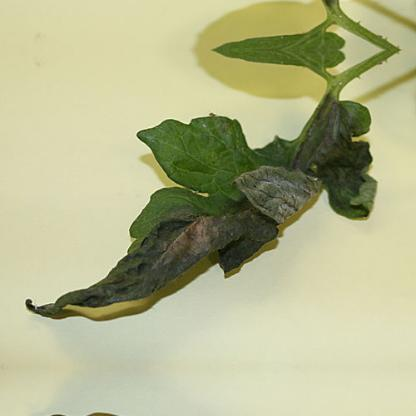Late-Blight: (22, 86, 384, 320)
